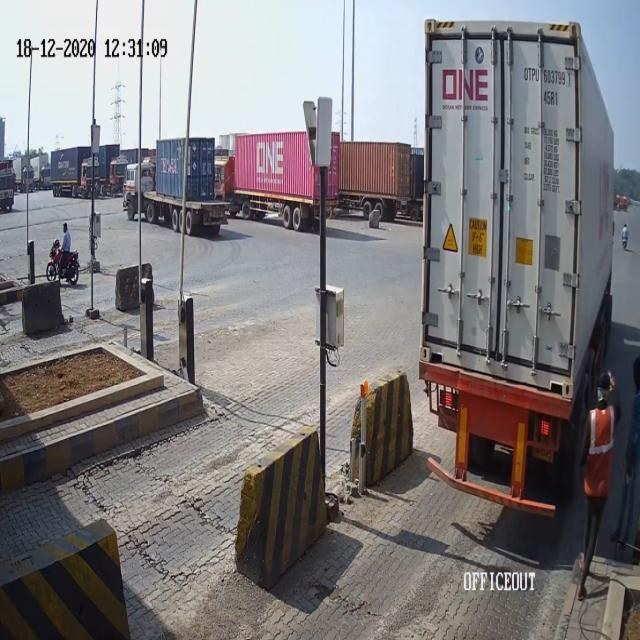ISO: (541, 89, 562, 105)
container_number: (518, 72, 572, 85)
